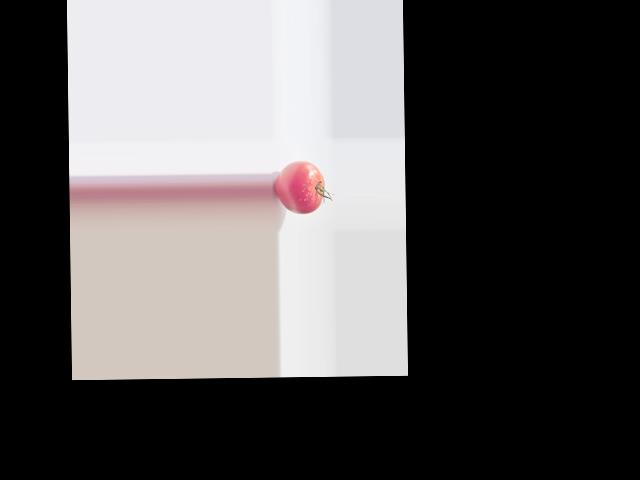tomato: (274, 160, 324, 214)
